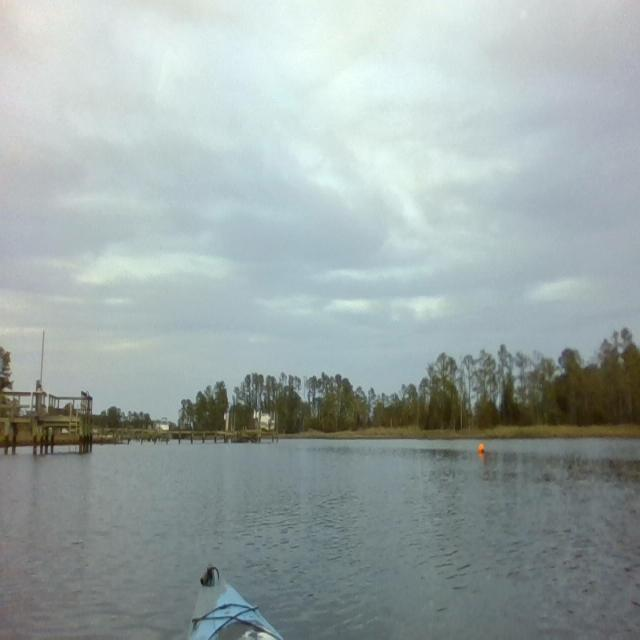Buoy: (477, 441, 486, 457)
